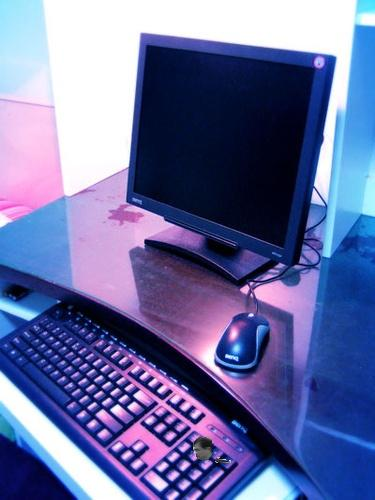tampered: (194, 438, 231, 463)
